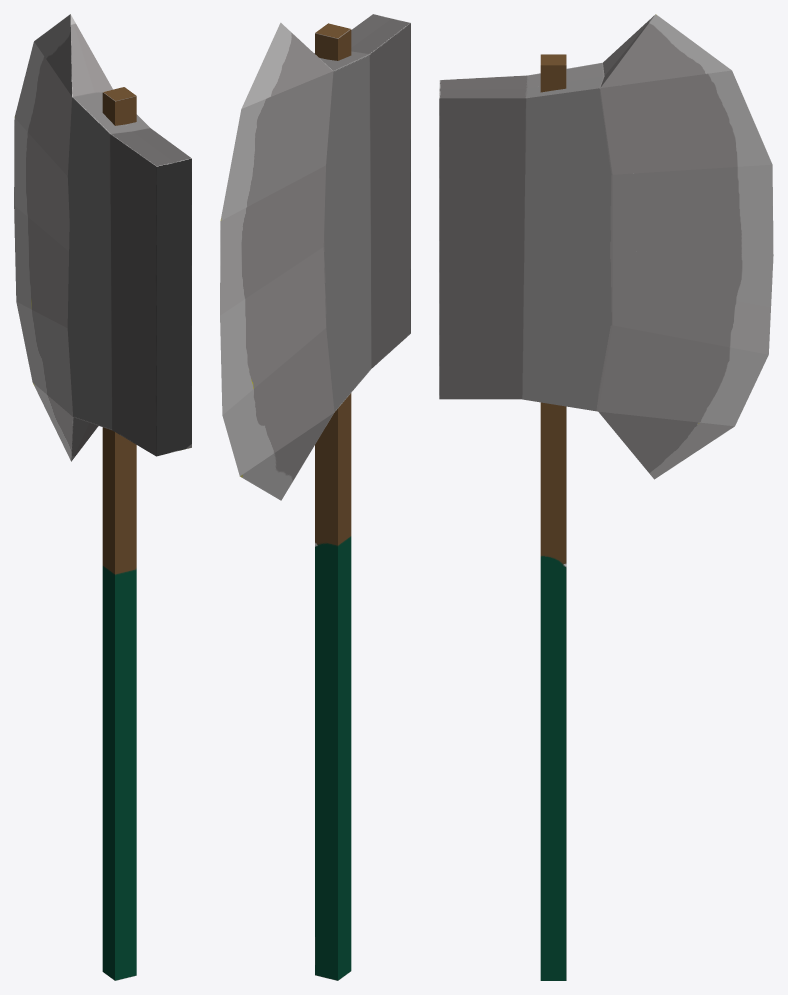
File: SAxe.glb
3 renders of one model, left to right at view 1: azimuth 30°, elevation 25°; view 2: azimuth 150°, elevation 25°; view 3: azimuth 270°, elevation 25°, orthographic. The views are drawn at different scales.
Visible parts, largest first — view 1: GoldenAxe.001; view 2: GoldenAxe.001; view 3: GoldenAxe.001.
Part boxes in pixels (box(x1,y1,x2,y2)): GoldenAxe.001: box(14, 14, 191, 980); GoldenAxe.001: box(220, 14, 410, 980); GoldenAxe.001: box(439, 14, 773, 980).
Size of the model in its own units: 0.0983 by 2.1 by 0.6613.
Materials: 1 (1 with a texture image).
